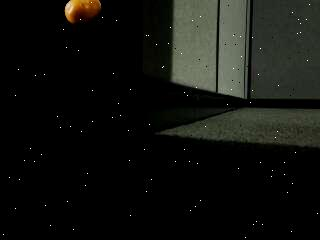Potato: (62, 0, 102, 25)
